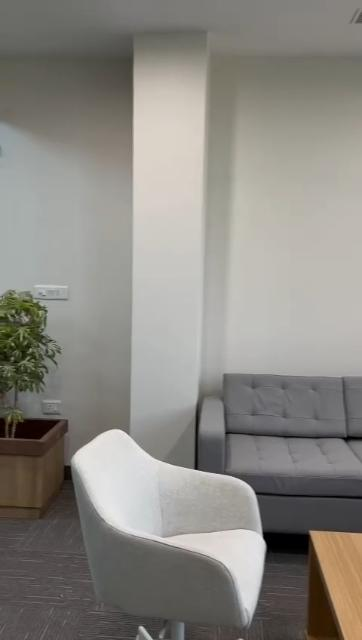floor: (0, 522, 82, 640)
object: (82, 418, 266, 640), (194, 368, 362, 534), (6, 284, 68, 522), (293, 526, 362, 640)
wall: (84, 8, 362, 366), (0, 2, 90, 278), (68, 311, 194, 424)
